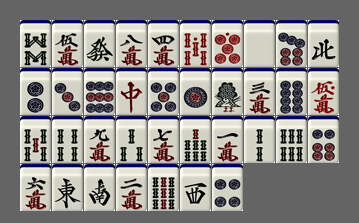0m: (308, 68, 339, 115)
0p: (212, 20, 243, 67)
0s: (180, 20, 211, 67)
1m: (212, 116, 243, 163)
1p: (180, 68, 211, 115)
1s: (212, 68, 243, 115)
1z: (52, 164, 83, 211)
2m: (116, 164, 147, 211)
2p: (20, 68, 51, 115)
2s: (244, 116, 275, 163)
2z: (84, 164, 115, 211)
3m: (244, 68, 275, 115)
3p: (52, 68, 83, 115)
3s: (116, 116, 147, 163)
3z: (180, 164, 211, 211)
4m: (148, 20, 179, 67)
4p: (212, 164, 243, 211)
4s: (52, 116, 83, 163)
4z: (308, 20, 339, 67)
5m: (52, 20, 83, 67)
5p: (148, 68, 179, 115)
5s: (20, 116, 51, 163)
5z: (244, 20, 275, 67)
6m: (20, 164, 51, 211)
6p: (308, 116, 339, 163)
6s: (276, 116, 307, 163)
6z: (84, 20, 115, 67)
7m: (148, 116, 179, 163)
7p: (276, 20, 307, 67)
7s: (180, 116, 211, 163)
7z: (116, 68, 147, 115)
8m: (116, 20, 147, 67)
8p: (276, 68, 307, 115)
8s: (20, 20, 51, 67)
9m: (84, 116, 115, 163)
9p: (84, 68, 115, 115)
9s: (148, 164, 179, 211)
